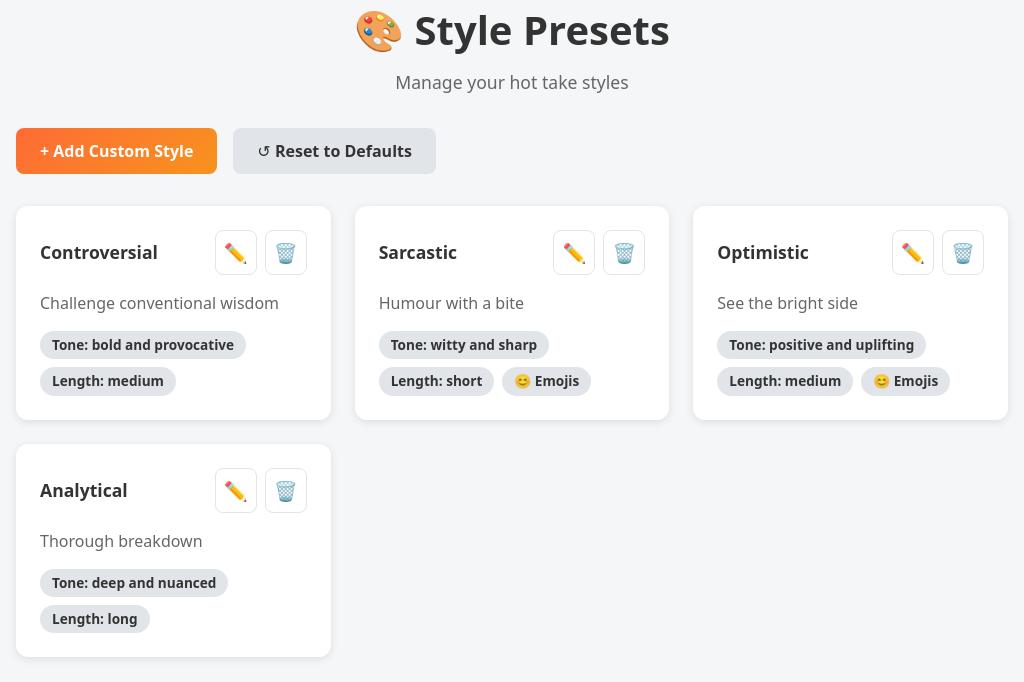
Test: StylesPage › creates a new style preset
Step 1. Click the button "+ Add Custom Style" → coordinates (117, 151), box [16, 128, 217, 174]
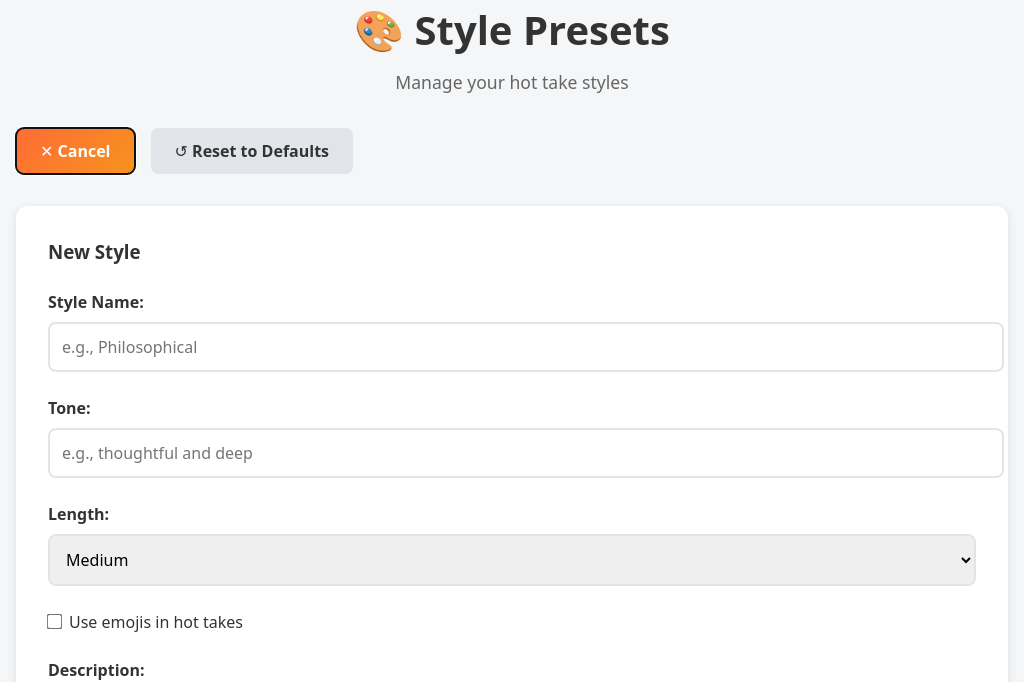
Step 2. Type "Philosophical" into the field labelled "Style Name:" → coordinates (526, 347), box [48, 322, 1004, 372]
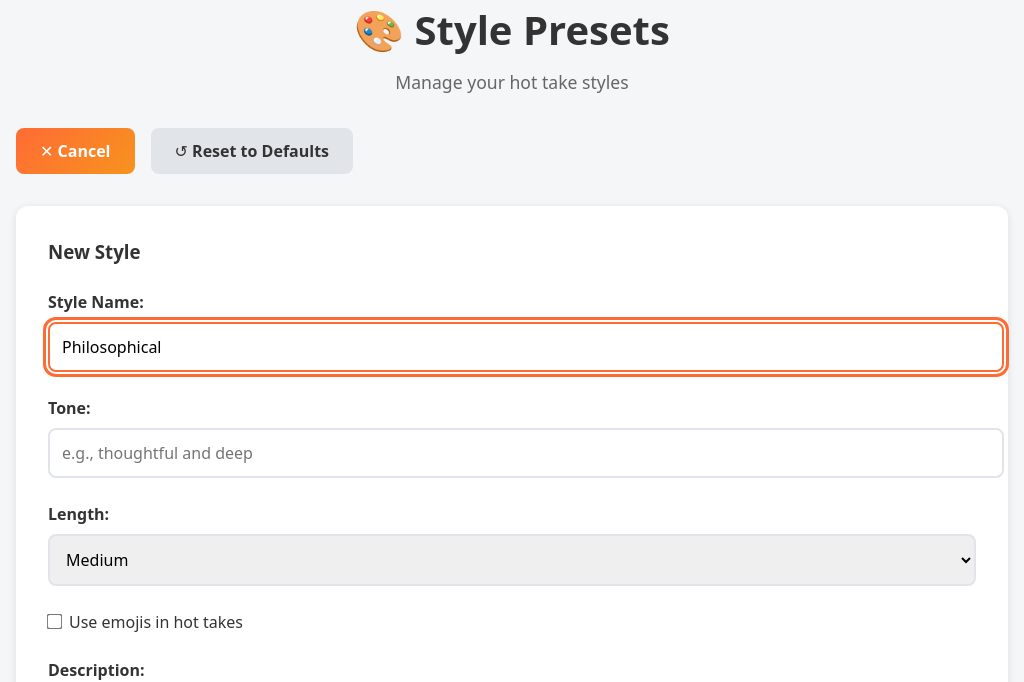
Step 3. Type "deep and thoughtful" into the field labelled "Tone:" → coordinates (526, 453), box [48, 428, 1004, 478]
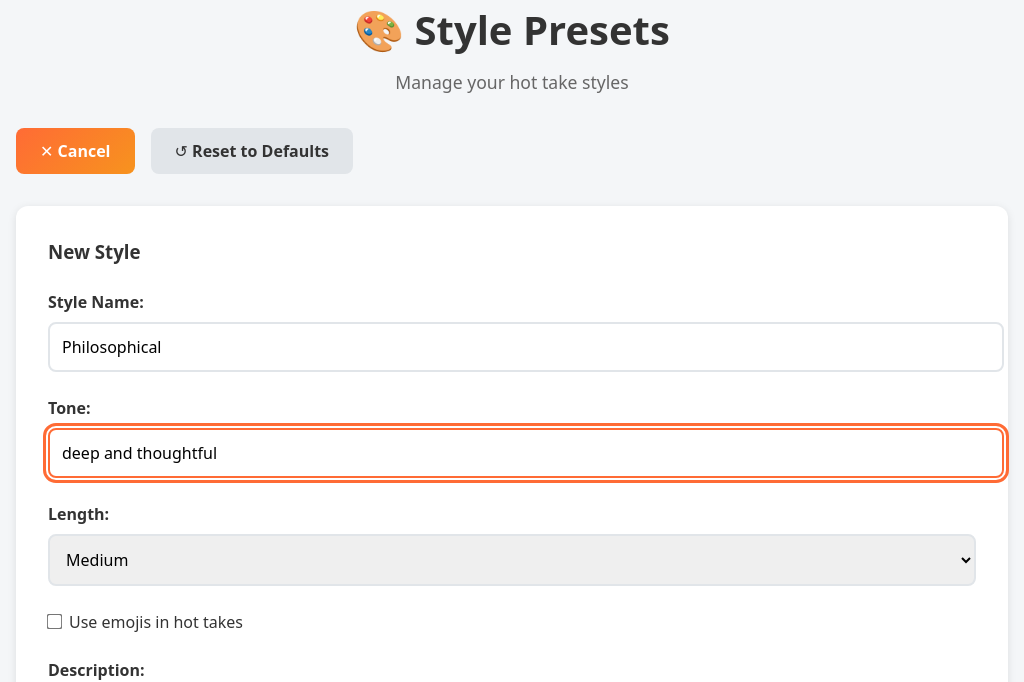
Step 4. Select "Long" in the dropdown labelled "Length:" → coordinates (512, 560), box [48, 534, 976, 586]
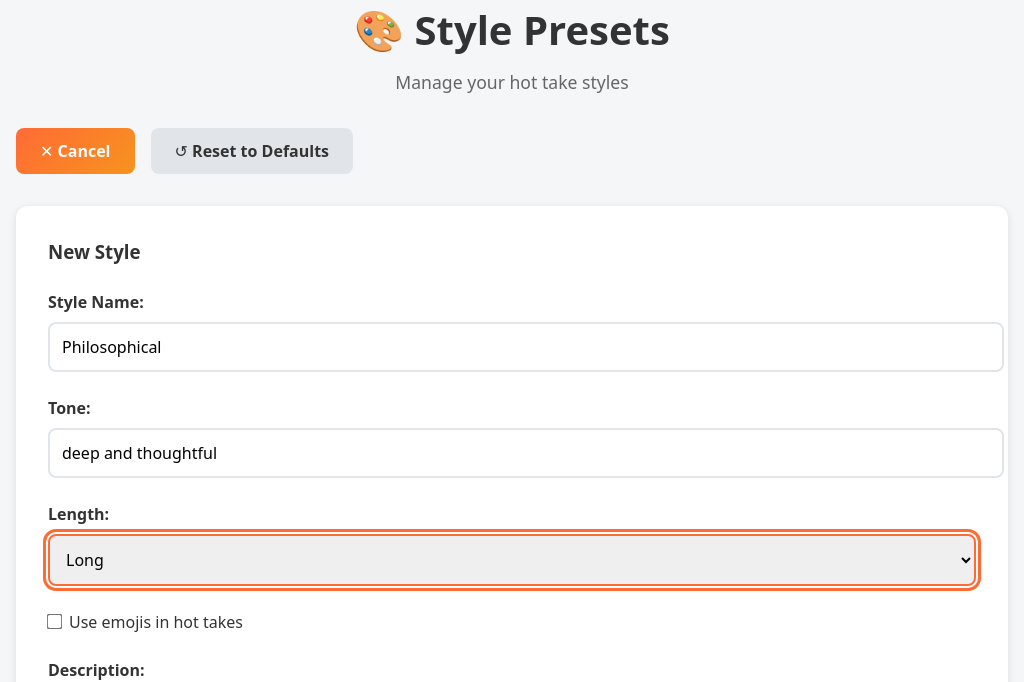
Step 5. Click the checkbox labelled "Use emojis in hot takes" → coordinates (54, 622), box [47, 614, 62, 630]
(page scrolled)
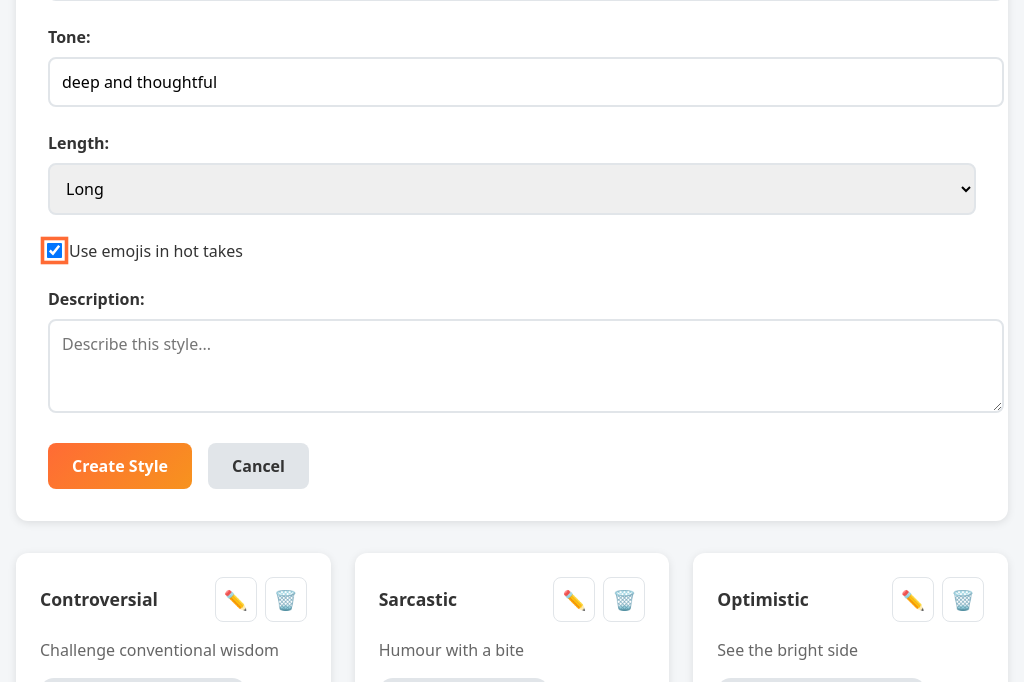
Step 6. Type "Explore deep concepts" into the text box labelled "Description:" → coordinates (526, 366), box [48, 319, 1004, 413]
Step 7. Click the button "Create Style" → coordinates (120, 466), box [48, 443, 192, 489]
(page scrolled)
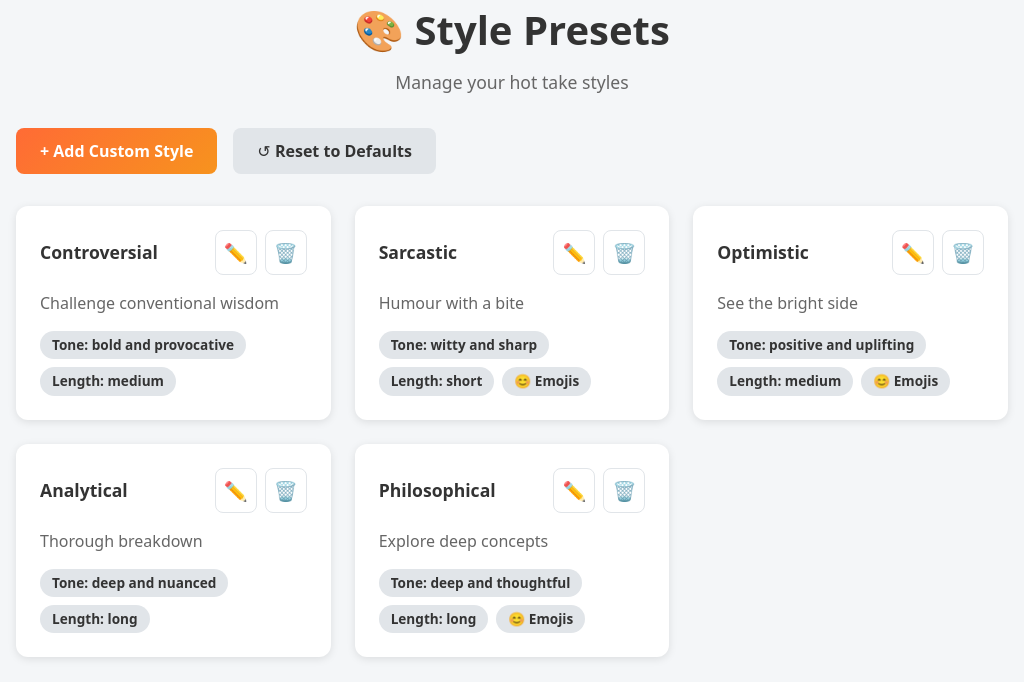
Expected: the heading "Philosophical" is shown, [379, 477, 496, 503]
Expected: the text "Explore deep concepts" is shown, [379, 530, 548, 552]
